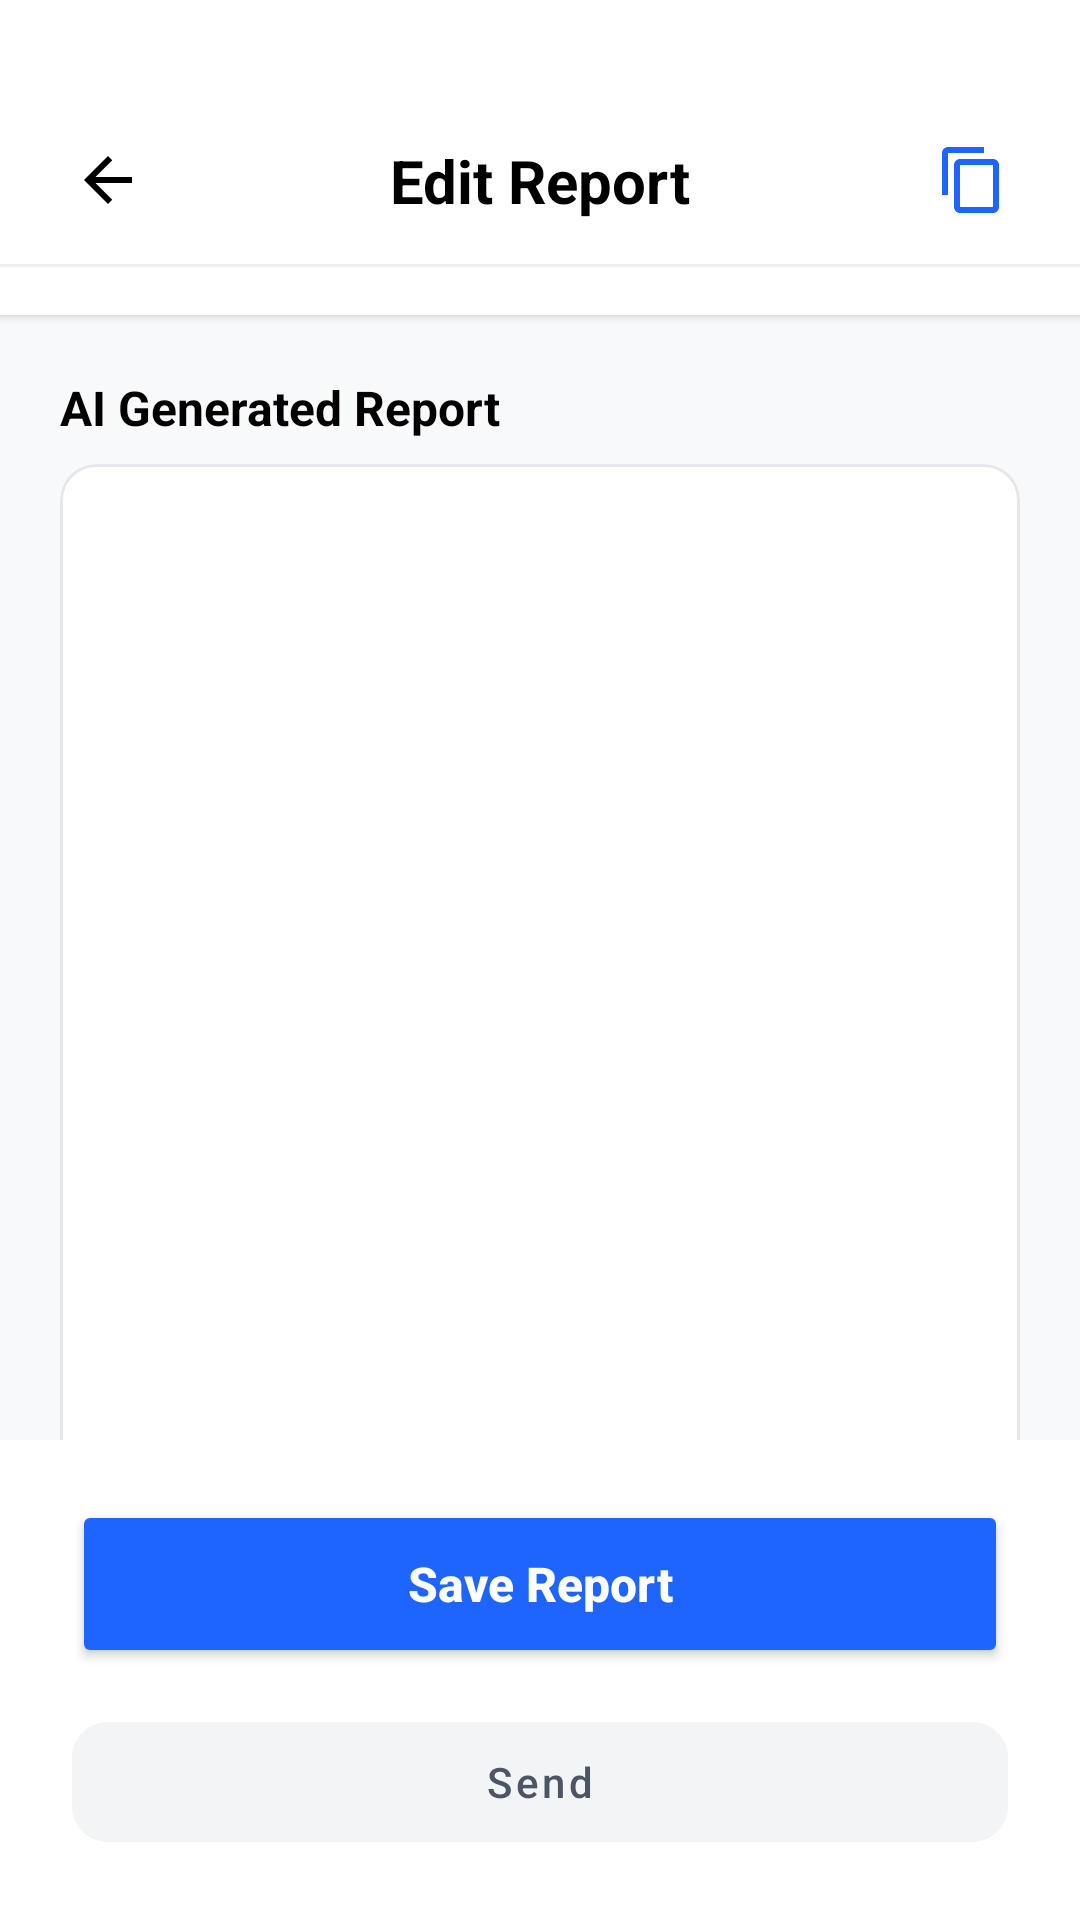

Named icons in this screenshot (1080×1920) and their centers, point (x, y):
back: point (108, 180)
